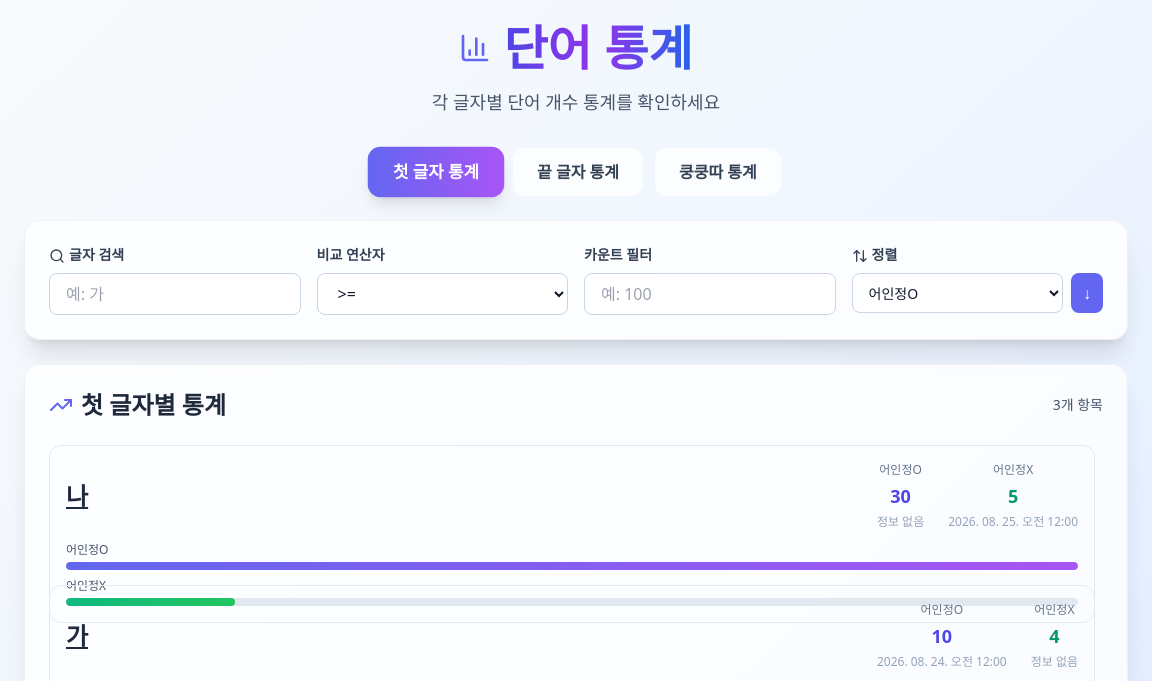
Test: WordStatsHome › renders last-letter DTO data and links after selecting the last-letter mode
Click the button "끝 글자 통계": (578, 172) [513,148,643,196]
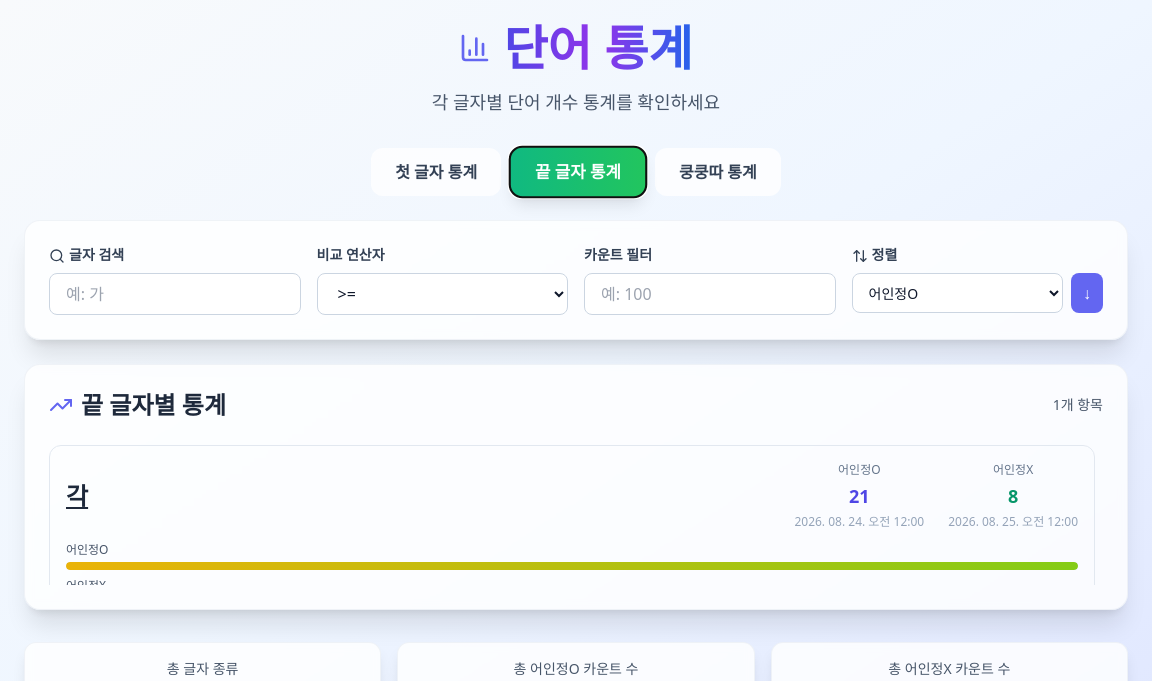
Check: the heading "끝 글자별 통계" is shown, box [81,389,226,421]
